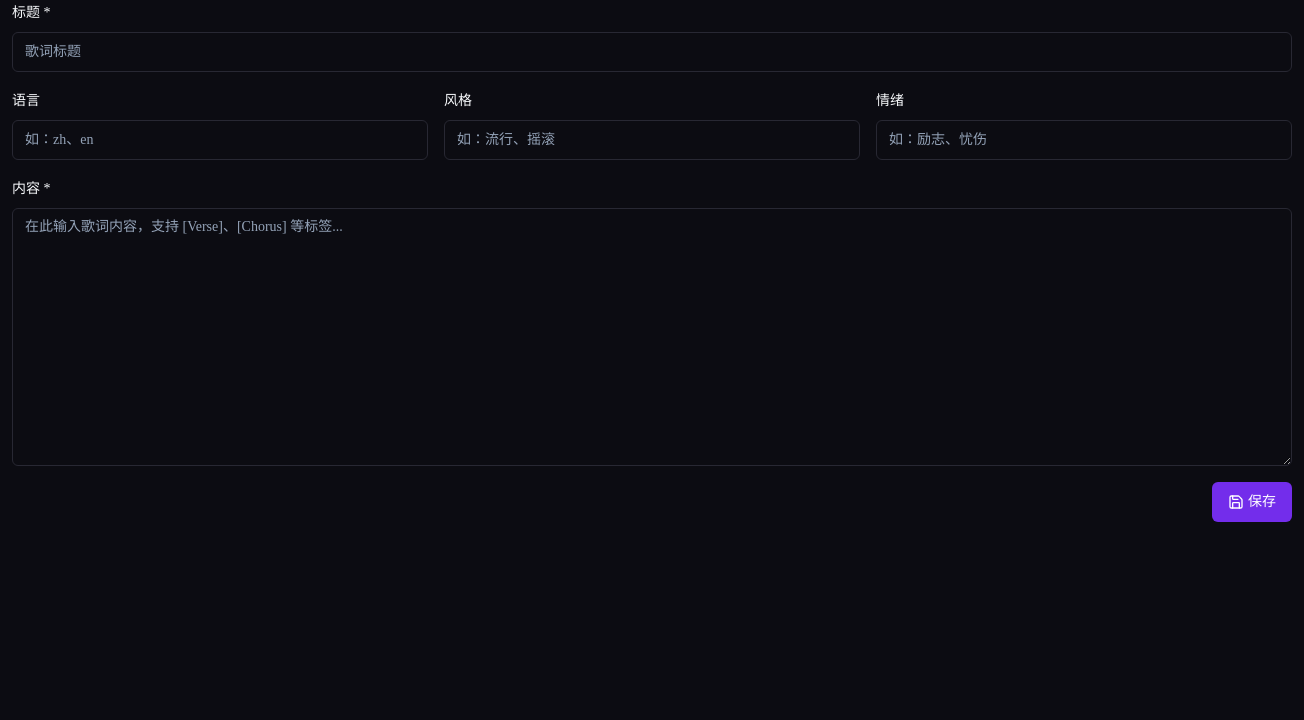
Test case: LyricCreateForm › shows validation errors for empty required fields on submit
Click the button "保存".
click(1252, 502)  # box [1212,482,1292,522]
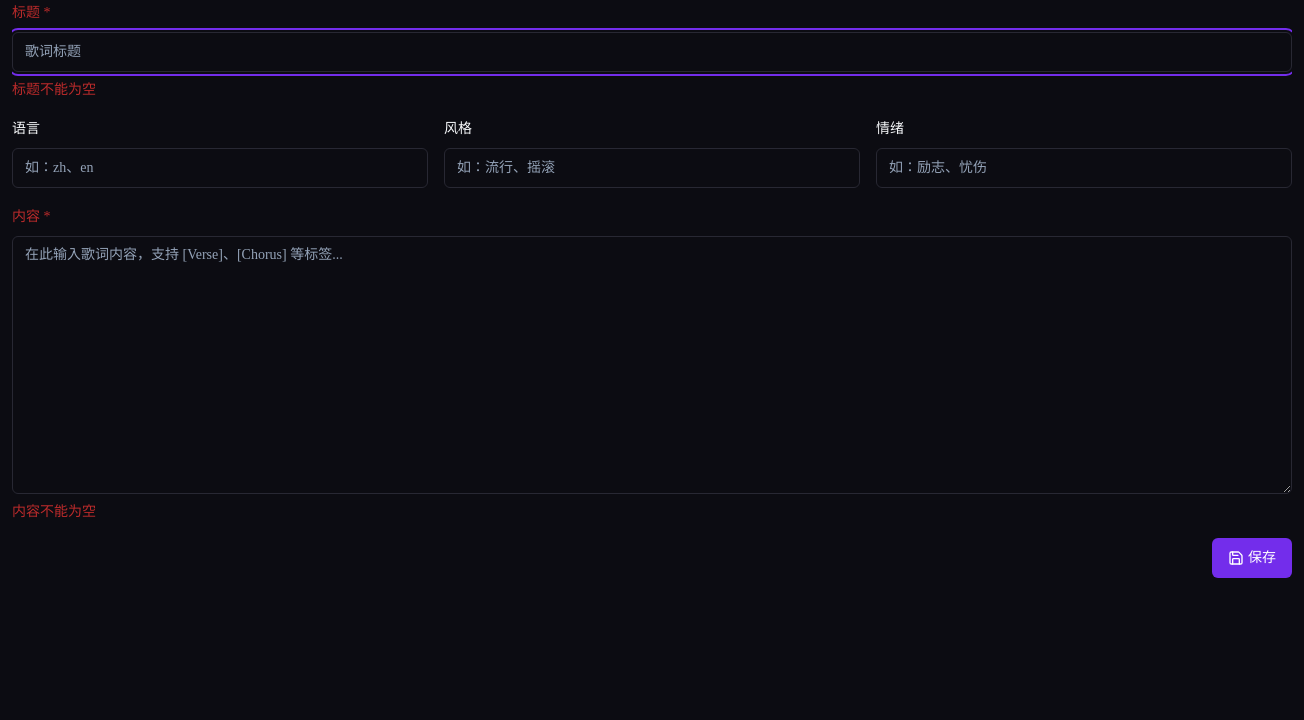
expect the text "标题不能为空" is shown: met, box [12,82,96,97]
expect the text "内容不能为空" is shown: met, box [12,504,96,519]
